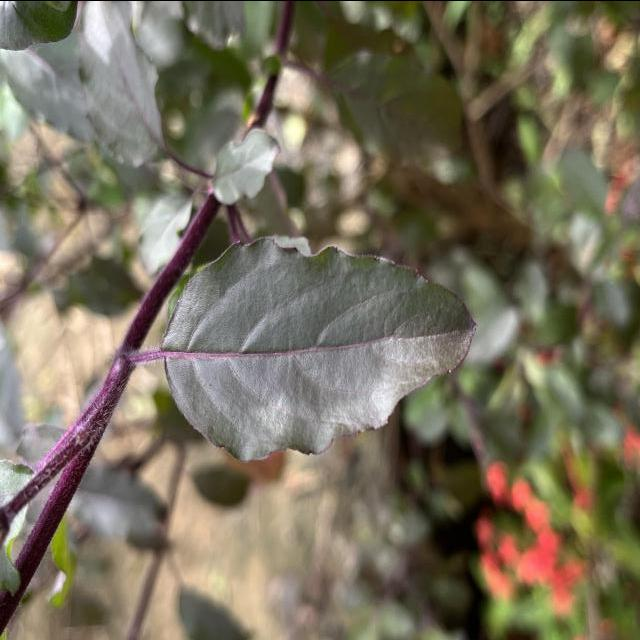Ocimum tenuiflorum: (162, 233, 478, 464)
